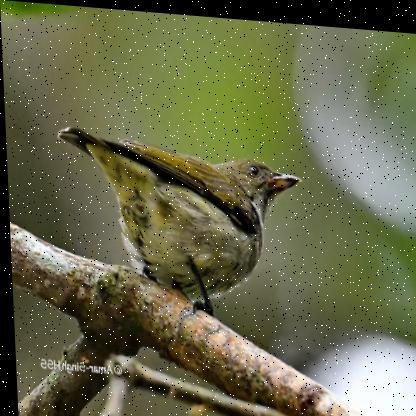Burung: (55, 121, 311, 338)
